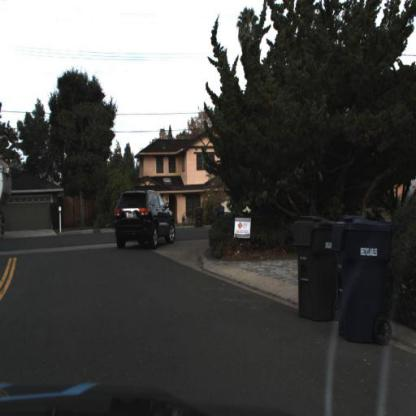car: (112, 186, 182, 254)
truck: (1, 161, 15, 243)
